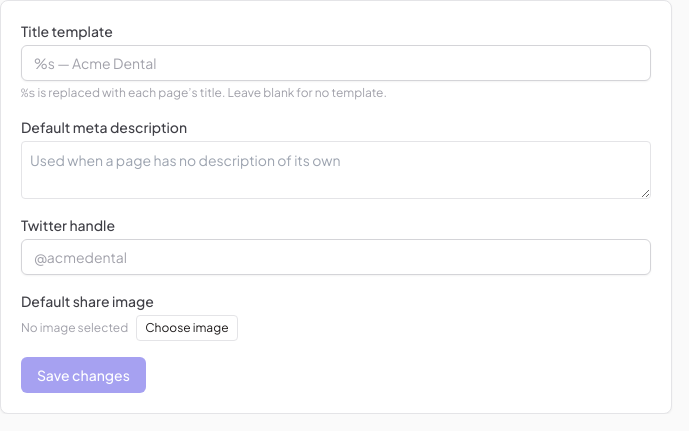
Test: SeoSettingsTab (P9-T9.8) › Save is disabled until something changes
This screenshot has width=689, height=431.
Expected: the button "Save changes" is disabled, [21,357,146,393]
Step 1. Type "%s | Acme" into the field labelled "Title template" → (336, 63), box [21,45,651,81]
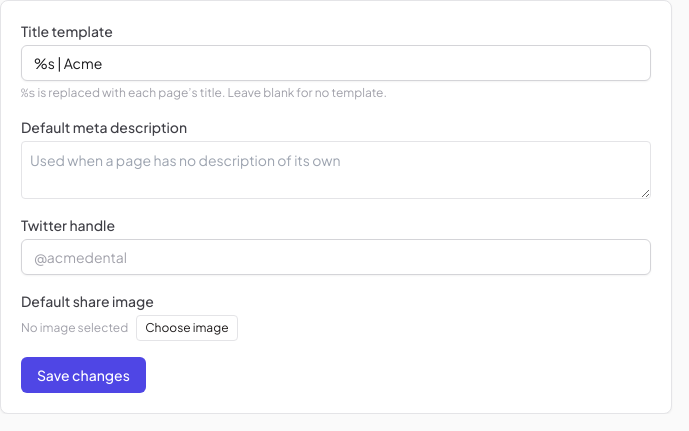
Expected: the button "Save changes" is enabled, [21,357,146,393]
